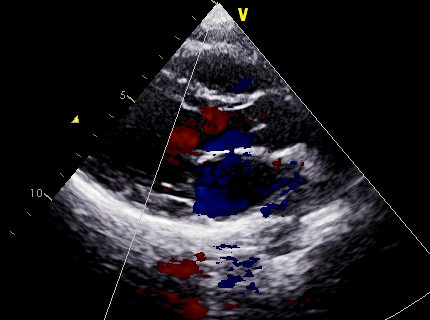AR: (183, 103, 247, 156)
